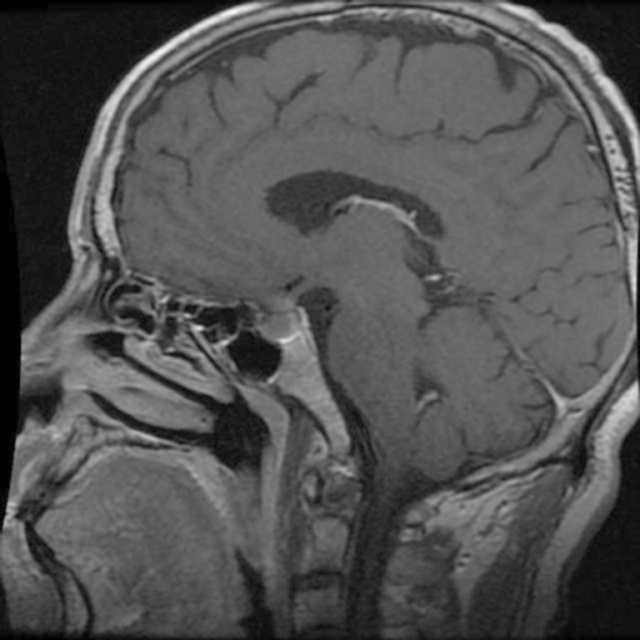no tumor: (255, 302, 317, 342)
